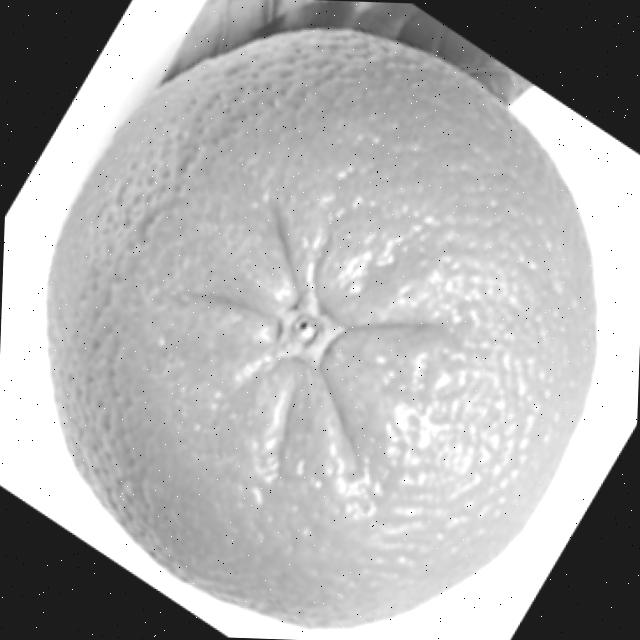orange: (30, 15, 616, 638)
